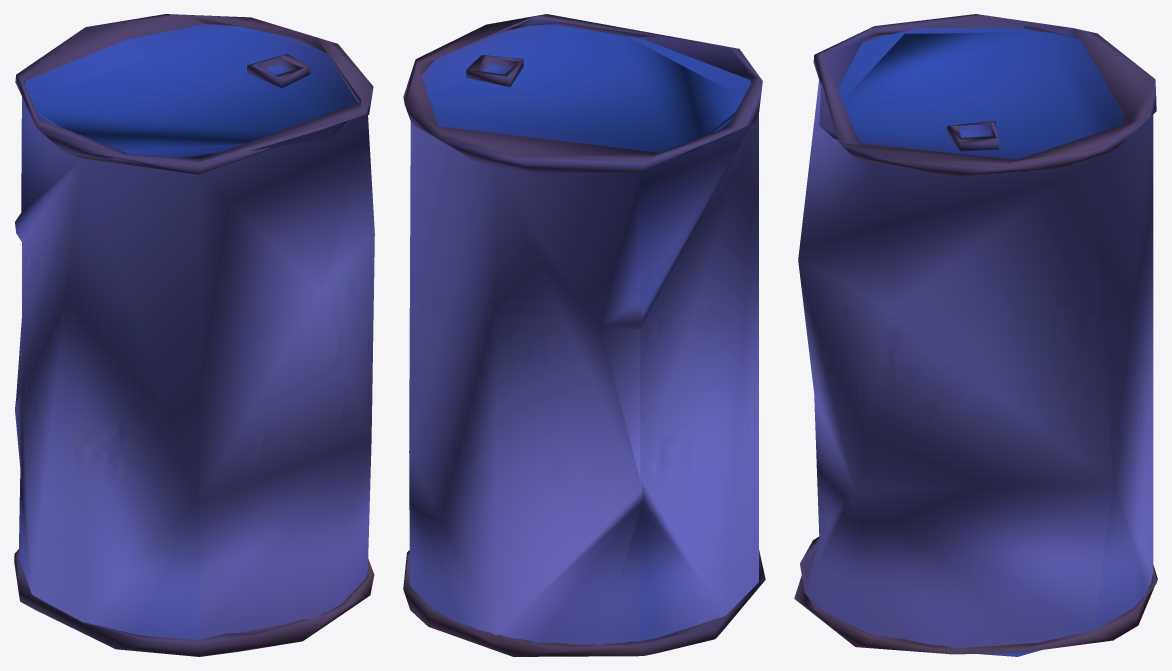
The model's file is model.progressive.glb.
3 views of the same model, side by side, from view 1: azimuth 30°, elevation 25°; view 2: azimuth 150°, elevation 25°; view 3: azimuth 270°, elevation 25° (orthographic).
Visible parts, largest first — view 1: material; view 2: material; view 3: material.
Part boxes in pixels (x1=…): material: x1=14, y1=14, x2=374, y2=656; material: x1=403, y1=14, x2=765, y2=656; material: x1=794, y1=14, x2=1157, y2=656.
Bounding box in the file's own units: 1.25 × 1.89 × 1.24.
Materials: 1 (1 with a texture image).
